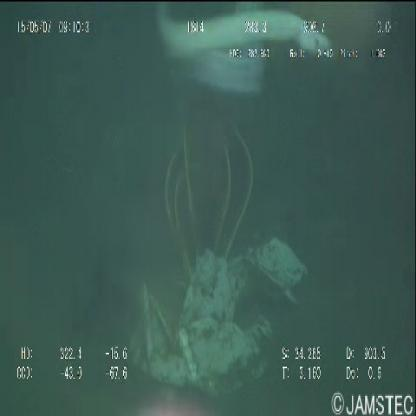Rác: (128, 237, 310, 401)
